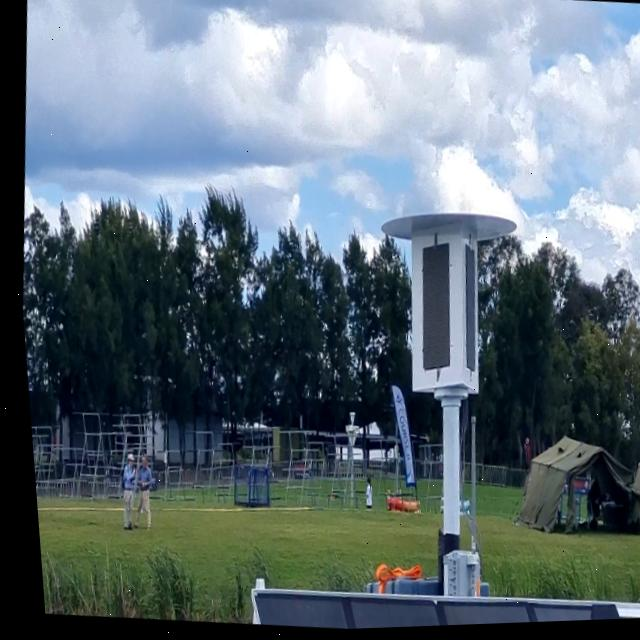led: (397, 238, 483, 388), (402, 233, 462, 381), (445, 236, 482, 389)
